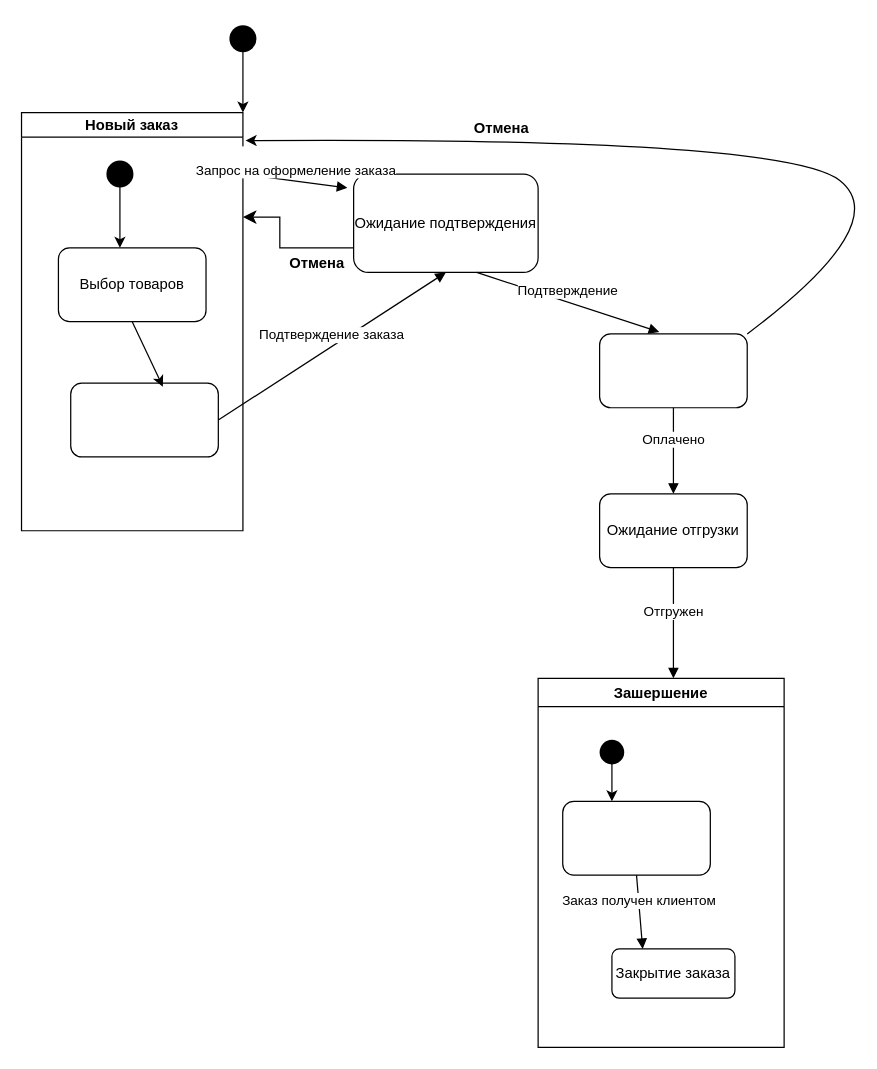
Image size: 877x1069. Some labels were removed from this diagram. The centre of each missing label's shape, as x and y in pixels:
"Доставка" belongs at pixel 635 837.
"Корзина покупателя" belongs at pixel 143 419.
"Ожидание оплаты" belongs at pixel 672 370.
